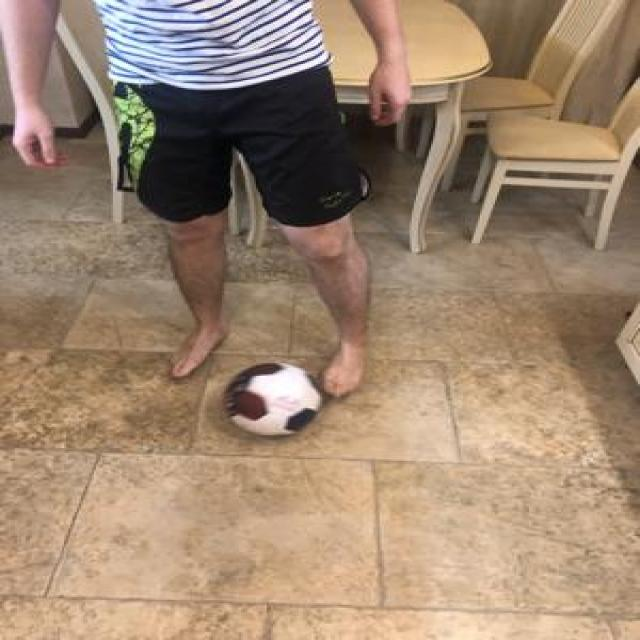Soccer Ball: (218, 360, 320, 435)
